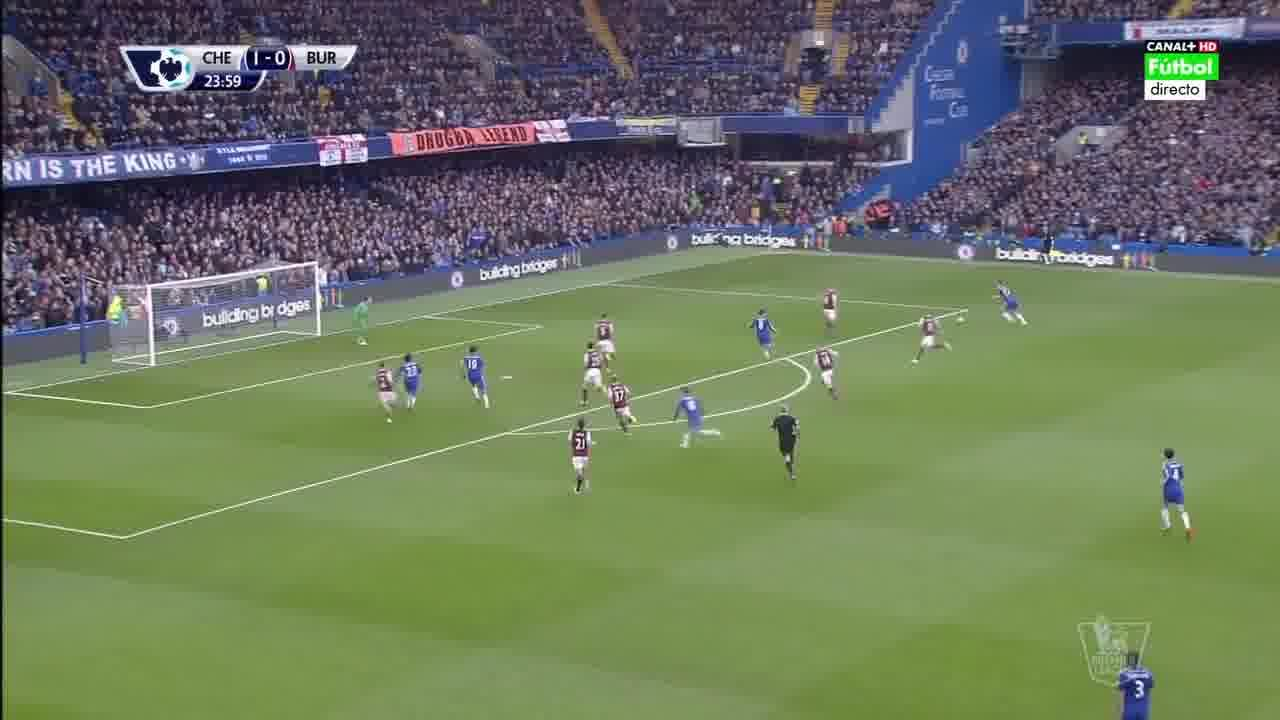football: (954, 317, 968, 325)
